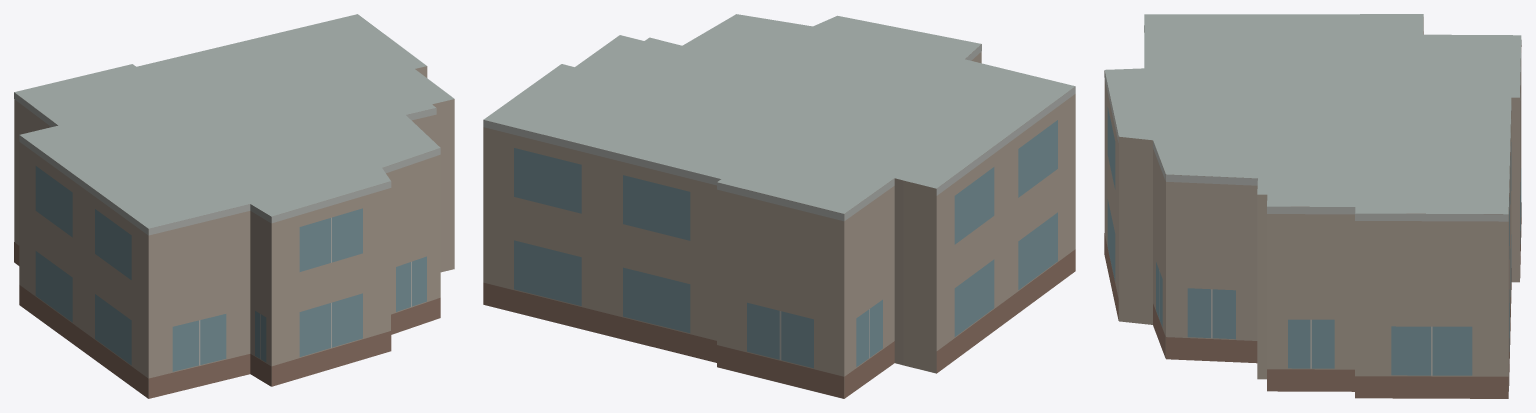
The model's file is survey-upis-32815516.glb.
The picture shows the model from 3 angles, left to right: view 1: azimuth 30°, elevation 25°; view 2: azimuth 150°, elevation 25°; view 3: azimuth 270°, elevation 25°; orthographic projection. The views are drawn at different scales.
Parts seen in each view (by area): view 1: survey-upis-32815516.tmp; view 2: survey-upis-32815516.tmp; view 3: survey-upis-32815516.tmp.
Part boxes in pixels (left/top/right/bottom): survey-upis-32815516.tmp: left=14, top=14, right=454, bottom=398; survey-upis-32815516.tmp: left=483, top=14, right=1075, bottom=398; survey-upis-32815516.tmp: left=1104, top=14, right=1521, bottom=398.
Size of the model in its own units: 14.18 by 6.1 by 12.49.
